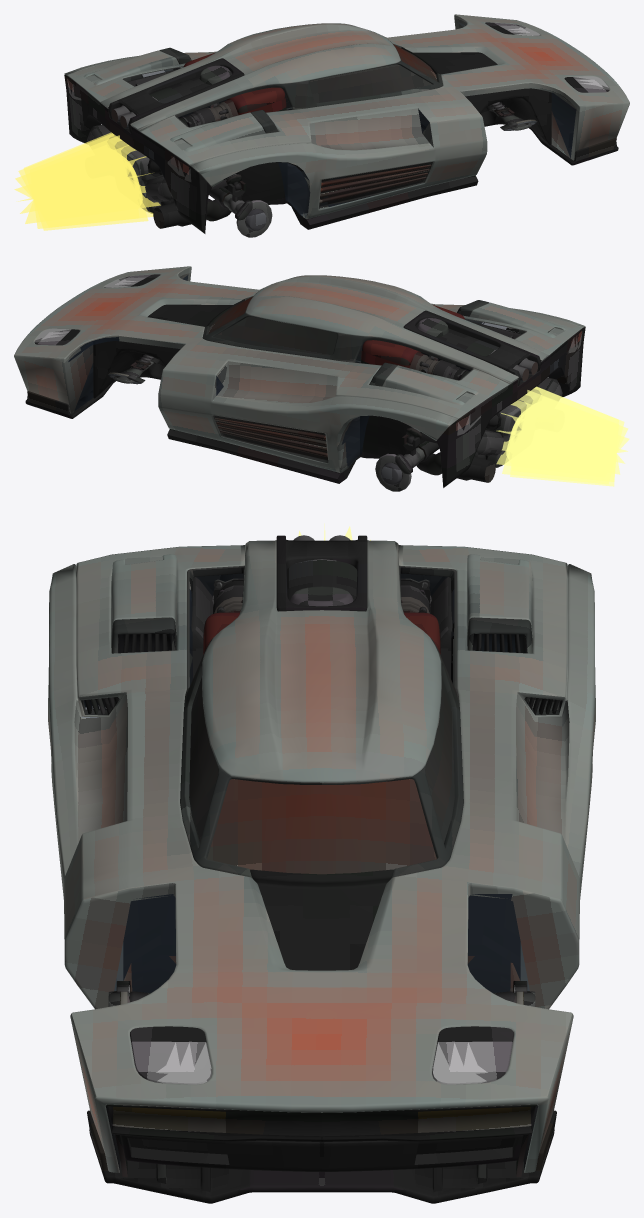
Rendered from Breakout_Force_ThreeWheel_Variant.glb.
3 renders of one model, top to bottom at view 1: azimuth 30°, elevation 25°; view 2: azimuth 150°, elevation 25°; view 3: azimuth 270°, elevation 25°, orthographic. The views are drawn at different scales.
Parts seen in each view (by area): view 1: Breakout_Force_ThreeWheel_Variant; view 2: Breakout_Force_ThreeWheel_Variant; view 3: Breakout_Force_ThreeWheel_Variant.
Boxes of the visible parts, <box> form: Breakout_Force_ThreeWheel_Variant: <box>14,14,629,237</box>; Breakout_Force_ThreeWheel_Variant: <box>14,266,629,491</box>; Breakout_Force_ThreeWheel_Variant: <box>48,524,595,1203</box>.
Bounding box in the file's own units: 1.77 × 0.4136 × 0.7522.
Materials: 6 (5 with a texture image).
